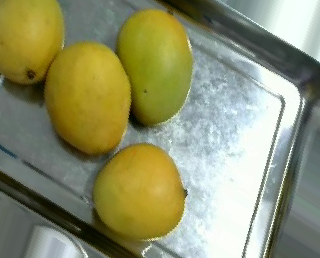Mango: (42, 42, 131, 156), (117, 8, 192, 125), (92, 144, 184, 239), (0, 1, 65, 85)
